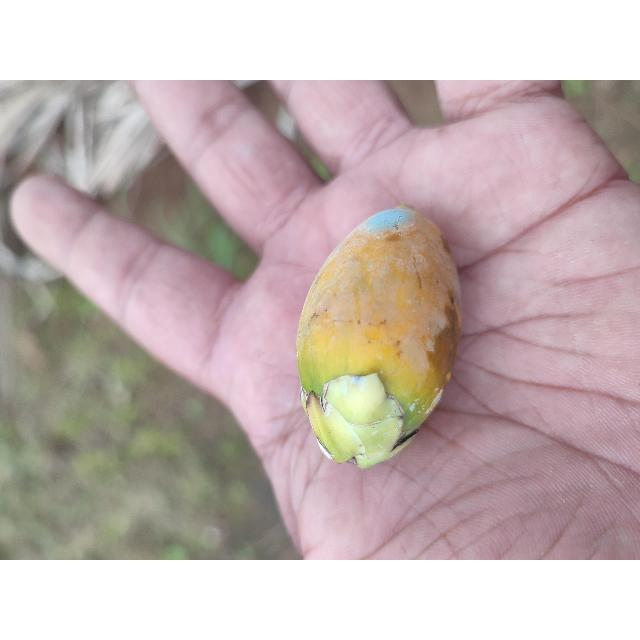good: (295, 207, 461, 471)
